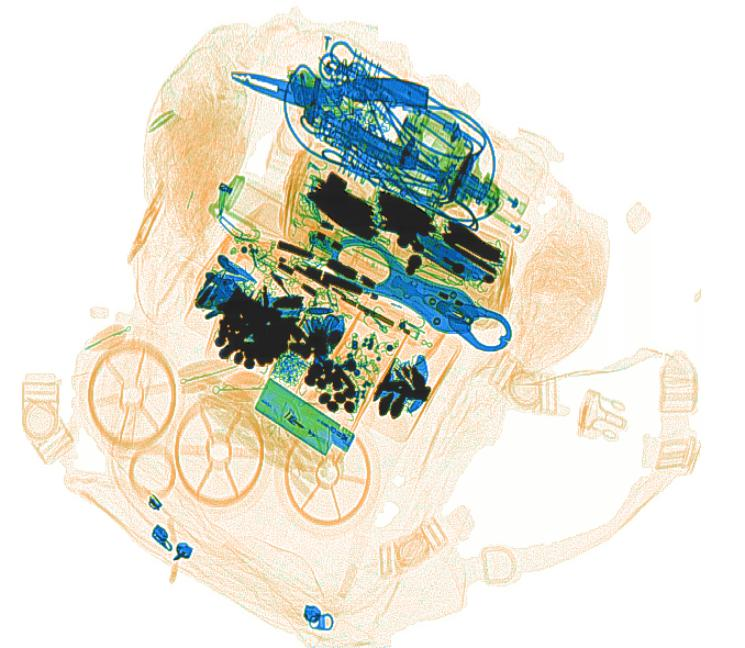lighter: (254, 377, 355, 456)
